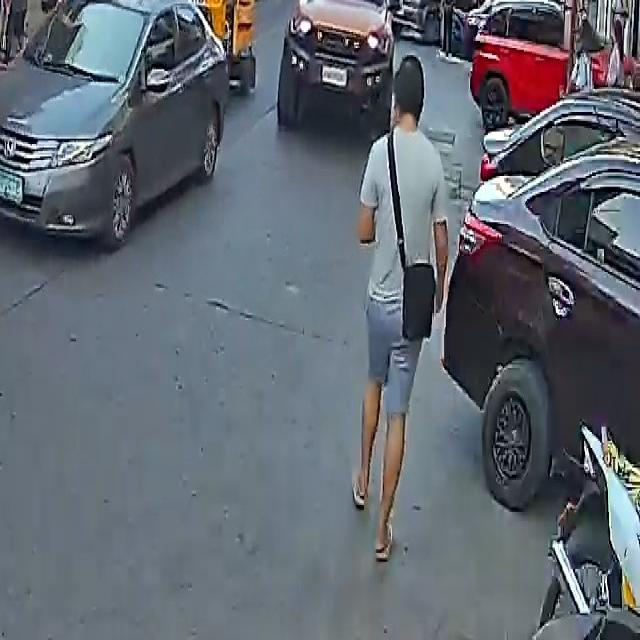car: (442, 135, 640, 526), (0, 0, 230, 251), (464, 0, 606, 121), (280, 0, 397, 130), (394, 0, 497, 48)
